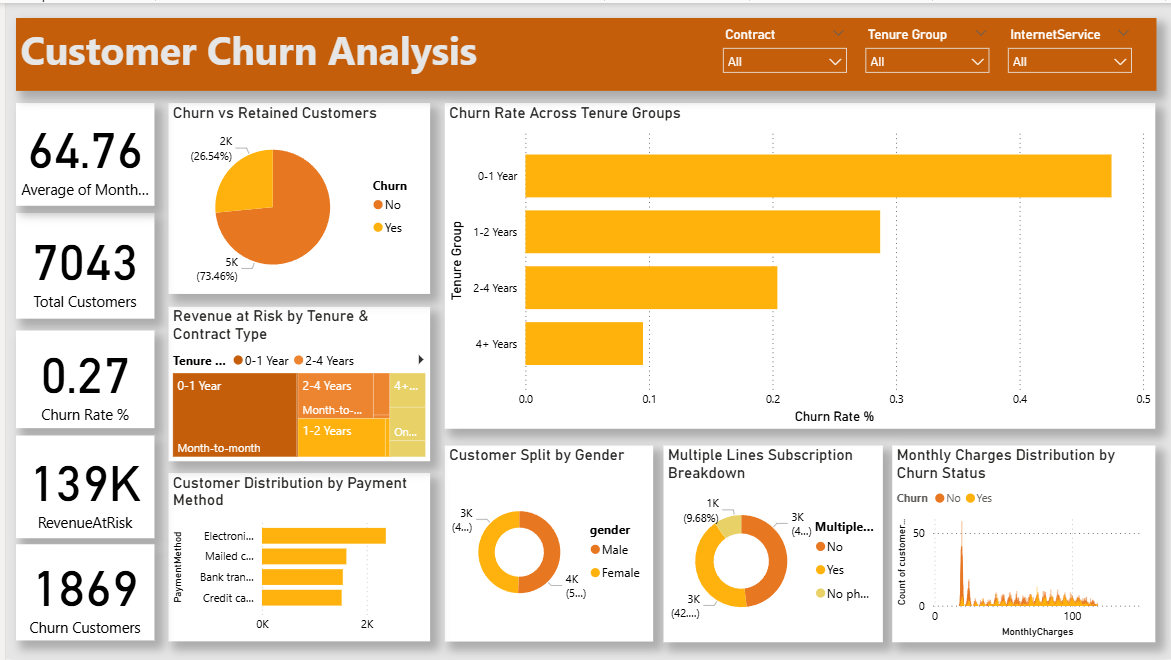

This screenshot's page, from the dashboard's own definition file:
{"tool":"powerbi","page":{"name":"Dashboard","canvas":[1280,720],"ordinal":0},"visuals":[{"type":"donutChart","title":"Customer Split by Gender","fields":{"Y":["telco_enriched.Total Customers"],"Category":["telco_enriched.gender"]},"box":[481.9,485.6,229.1,215.4],"z":0},{"type":"clusteredBarChart","title":"Customer Distribution by Payment Method","fields":{"Category":["telco_enriched.PaymentMethod"],"Y":["telco_enriched.Total Customers"]},"box":[178.6,516.5,287.3,184.6],"z":1000},{"type":"treemap","title":"Revenue at Risk by Tenure & Contract Type","fields":{"Group":["telco_enriched.Tenure Group"],"Details":["telco_enriched.Contract"],"Values":["telco_enriched.RevenueAtRisk"]},"box":[178.6,333.4,287.3,169.7],"z":2000},{"type":"pieChart","title":"Churn vs Retained Customers","fields":{"Y":["telco_enriched.Total Customers"],"Category":["telco_enriched.Churn"]},"box":[178.6,110.1,287.3,209.9],"z":3000},{"type":"donutChart","title":"Multiple Lines Subscription Breakdown","fields":{"Category":["telco_enriched.MultipleLines"],"Y":["telco_enriched.Total Customers"]},"box":[721.9,485.2,241.1,215.8],"z":4000},{"type":"card","fields":{"Values":["telco_enriched.Total Customers"]},"box":[10.4,230.7,151.8,116.1],"z":5000},{"type":"card","fields":{"Values":["telco_enriched.Churn Rate %"]},"box":[10.4,360.2,151.8,107.2],"z":6000},{"type":"card","fields":{"Values":["telco_enriched.RevenueAtRisk"]},"box":[10.4,474.8,151.8,113.1],"z":7000},{"type":"card","fields":{"Values":["telco_enriched.Churn Customers"]},"box":[10.4,593.9,151.8,105.7],"z":8000},{"type":"card","fields":{"Values":["Avg(telco_enriched.MonthlyCharges)"]},"box":[10.4,110.1,151.8,113.1],"z":9000},{"type":"clusteredBarChart","title":"Churn Rate Across Tenure Groups","fields":{"Y":["telco_enriched.Churn Rate %"],"Category":["telco_enriched.Tenure Group"]},"box":[482.2,110.1,779.9,357.2],"z":10000},{"type":"clusteredColumnChart","title":"Monthly Charges Distribution by Churn Status","fields":{"Category":["telco_enriched.MonthlyCharges"],"Y":["CountNonNull(telco_enriched.customerID)"],"Series":["telco_enriched.Churn"]},"box":[973.4,485.2,288.7,215.8],"z":11000},{"type":"textbox","box":[10.4,16.4,1251.7,80.4],"z":12000},{"type":"slicer","fields":{"Values":["telco_enriched.Contract"]},"box":[776.9,20.8,156.3,70],"z":13000},{"type":"slicer","fields":{"Values":["telco_enriched.InternetService"]},"box":[1089.5,20.8,156.3,70],"z":14000},{"type":"slicer","fields":{"Values":["telco_enriched.Tenure Group"]},"box":[933.2,20.8,156.3,70],"z":15000}]}

Visuals, with their boxes in screenshot pixels (x1, y1, x2, y2), scaled from the page's 1280x720 canvas onto the 1171x660 screenshot:
"Customer Split by Gender" donutChart: <bbox>441, 445, 650, 643</bbox>
"Customer Distribution by Payment Method" clusteredBarChart: <bbox>163, 473, 426, 643</bbox>
"Revenue at Risk by Tenure & Contract Type" treemap: <bbox>163, 306, 426, 461</bbox>
"Churn vs Retained Customers" pieChart: <bbox>163, 101, 426, 293</bbox>
"Multiple Lines Subscription Breakdown" donutChart: <bbox>660, 445, 881, 643</bbox>
card - telco_enriched.Total Customers: <bbox>10, 211, 148, 318</bbox>
card - telco_enriched.Churn Rate %: <bbox>10, 330, 148, 428</bbox>
card - telco_enriched.RevenueAtRisk: <bbox>10, 435, 148, 539</bbox>
card - telco_enriched.Churn Customers: <bbox>10, 544, 148, 641</bbox>
card - Avg(telco_enriched.MonthlyCharges): <bbox>10, 101, 148, 205</bbox>
"Churn Rate Across Tenure Groups" clusteredBarChart: <bbox>441, 101, 1155, 428</bbox>
"Monthly Charges Distribution by Churn Status" clusteredColumnChart: <bbox>891, 445, 1155, 643</bbox>
textbox: <bbox>10, 15, 1155, 89</bbox>
slicer - telco_enriched.Contract: <bbox>711, 19, 854, 83</bbox>
slicer - telco_enriched.InternetService: <bbox>997, 19, 1140, 83</bbox>
slicer - telco_enriched.Tenure Group: <bbox>854, 19, 997, 83</bbox>
